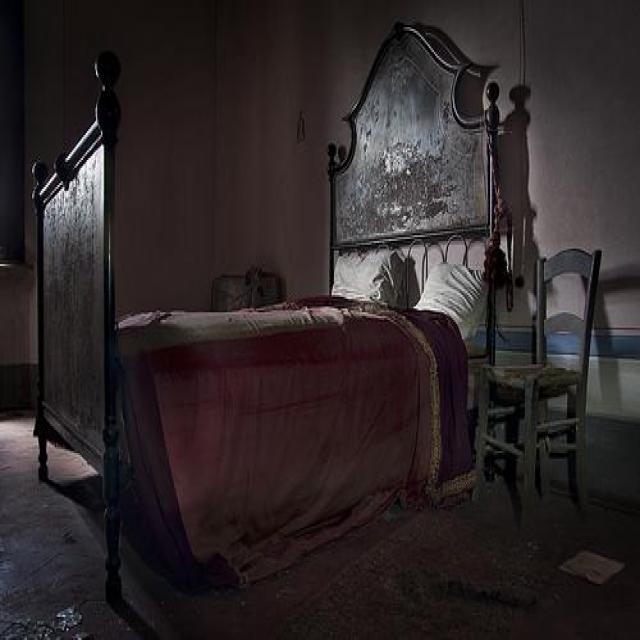bed: (29, 17, 534, 617)
